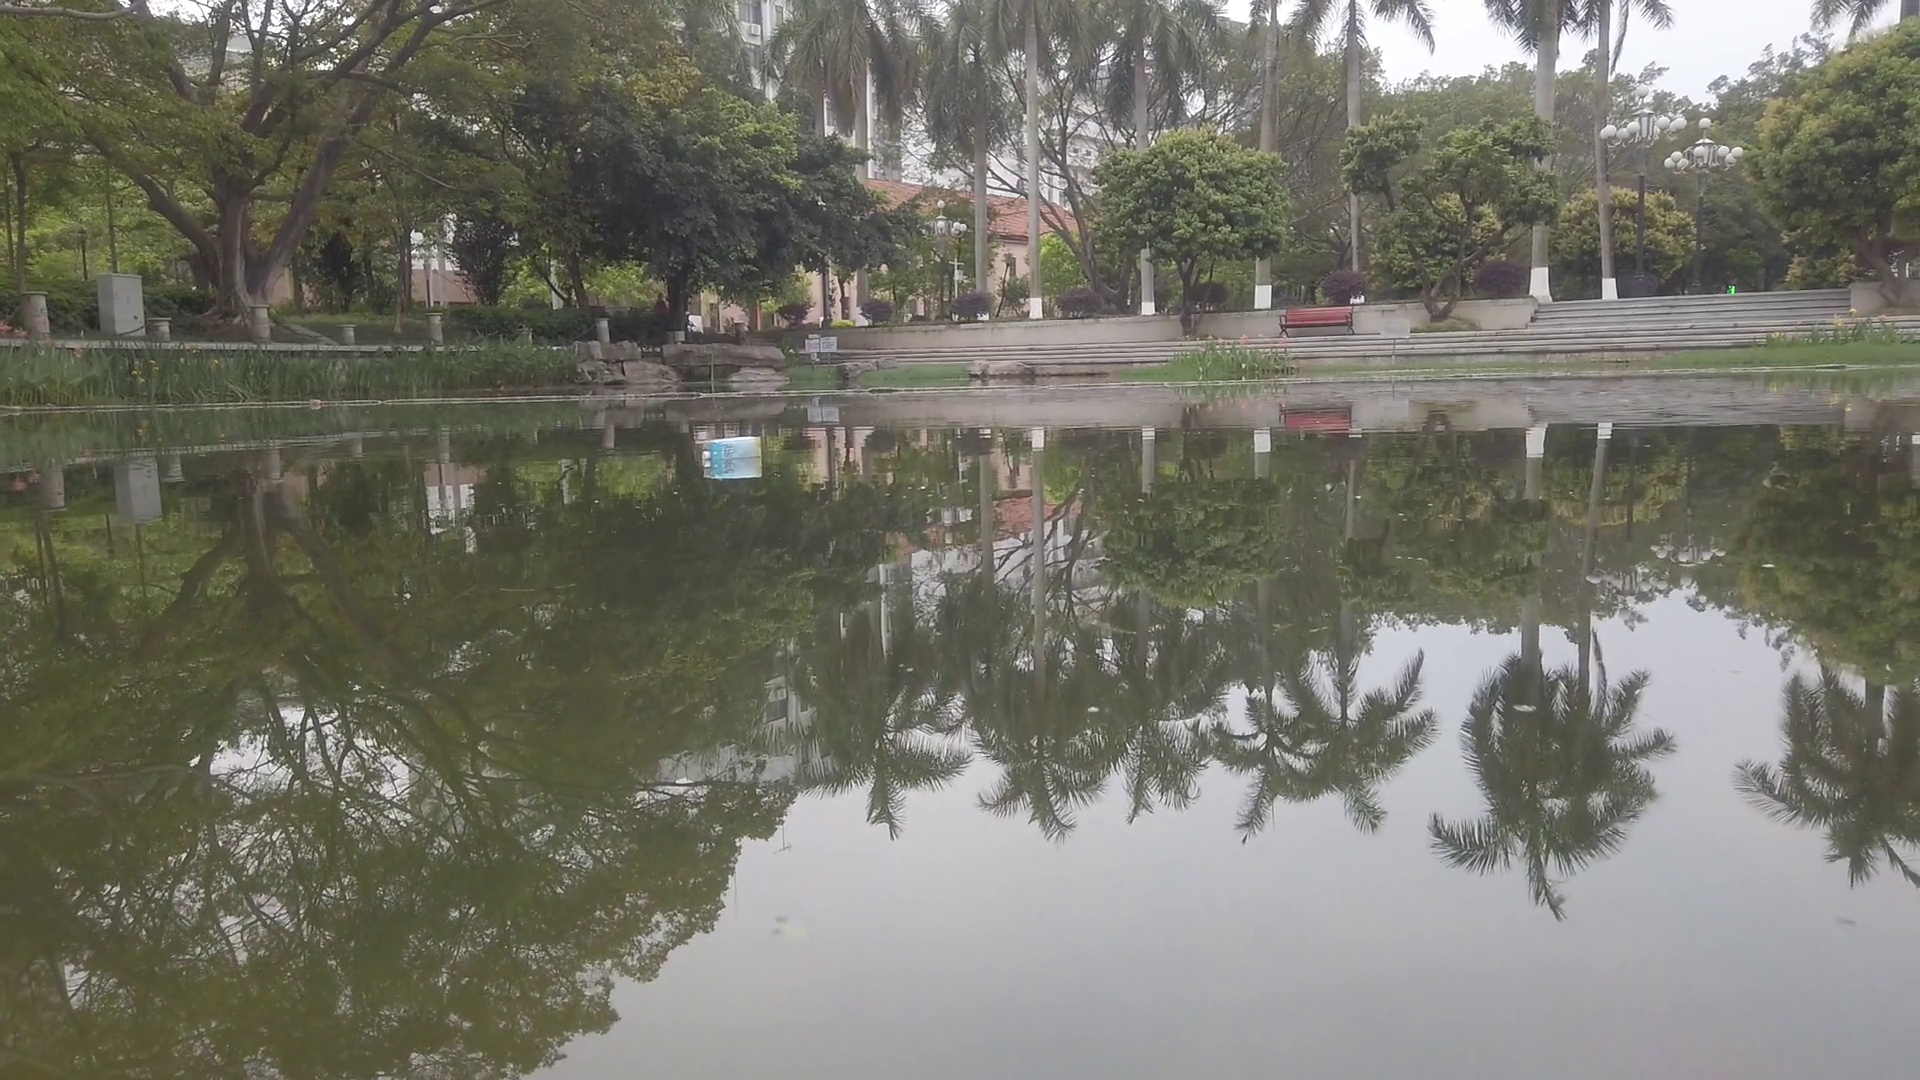carton: (702, 436, 764, 463)
